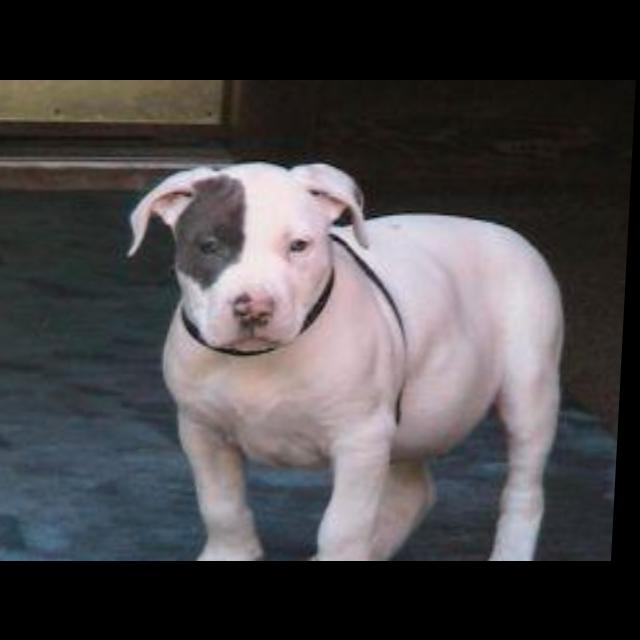amstaff: (118, 157, 581, 561)
